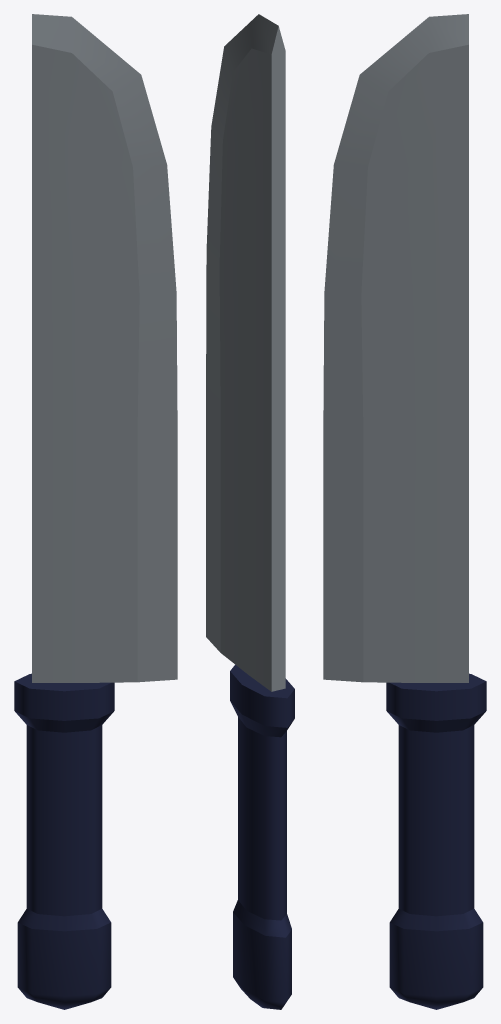
Rendered from Faca.fbx.
The picture shows the model from 3 angles, left to right: view 1: azimuth 90°, elevation 25°; view 2: azimuth 210°, elevation 25°; view 3: azimuth 270°, elevation 25°; orthographic projection.
Visible parts, largest first — view 1: Faca; view 2: Faca; view 3: Faca.
Part boxes in pixels (box(x1,y1,x2,y2)): Faca: box(14, 14, 177, 1009); Faca: box(206, 14, 294, 1009); Faca: box(323, 14, 486, 1009).
Bounding box in the file's own units: 1.25 × 29.11 × 4.32.
